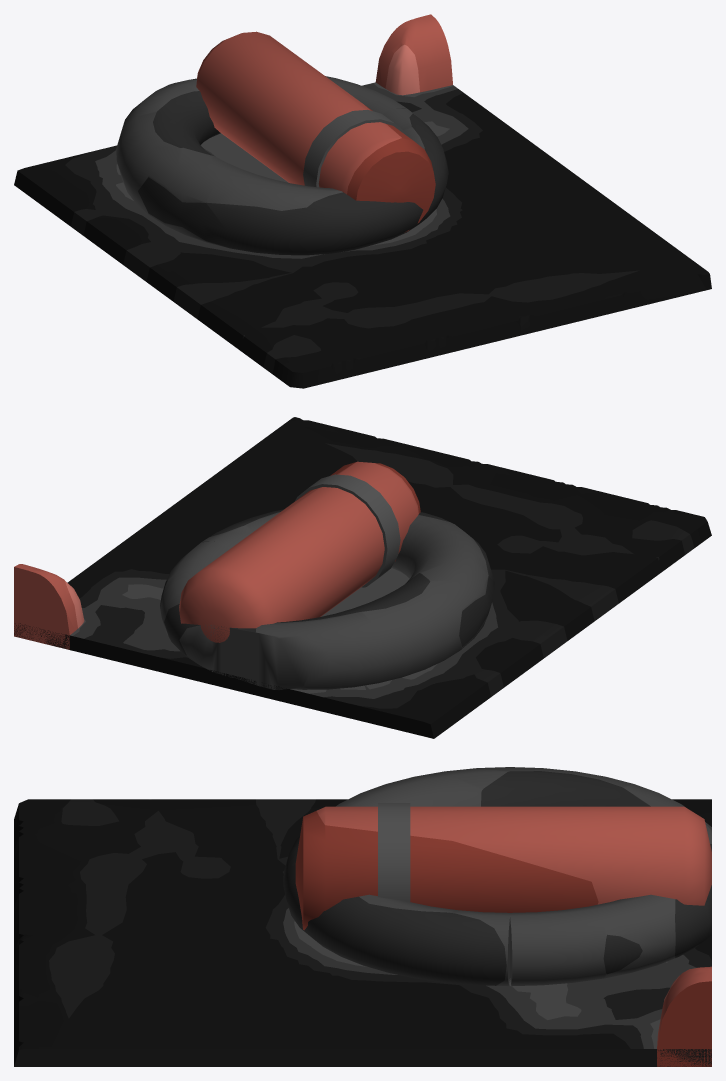
Rendered from brick_bulb_bl.glb.
3 views of the same model, one above another, from view 1: azimuth 30°, elevation 25°; view 2: azimuth 150°, elevation 25°; view 3: azimuth 270°, elevation 25° (orthographic). The views are drawn at different scales.
Visible parts, largest first — view 1: wall, ring_l, piston_l, stalk, piston_l_band; view 2: wall, ring_l, piston_l, stalk, piston_l_band; view 3: wall, ring_l, piston_l, stalk, piston_l_band.
Part boxes in pixels (<box>): wall: <box>14,82,711,388</box>; ring_l: <box>116,76,448,255</box>; piston_l: <box>196,31,435,232</box>; stalk: <box>375,14,452,95</box>; piston_l_band: <box>303,109,407,187</box>; wall: <box>14,417,711,738</box>; ring_l: <box>160,509,494,689</box>; piston_l: <box>179,461,420,642</box>; stalk: <box>14,564,84,649</box>; piston_l_band: <box>295,474,400,587</box>; wall: <box>14,799,711,1066</box>; ring_l: <box>283,767,711,986</box>; piston_l: <box>295,806,711,930</box>; stalk: <box>657,966,711,1066</box>; piston_l_band: <box>378,803,410,901</box>.
Size of the model in its own units: 24 by 6.05 by 28.
